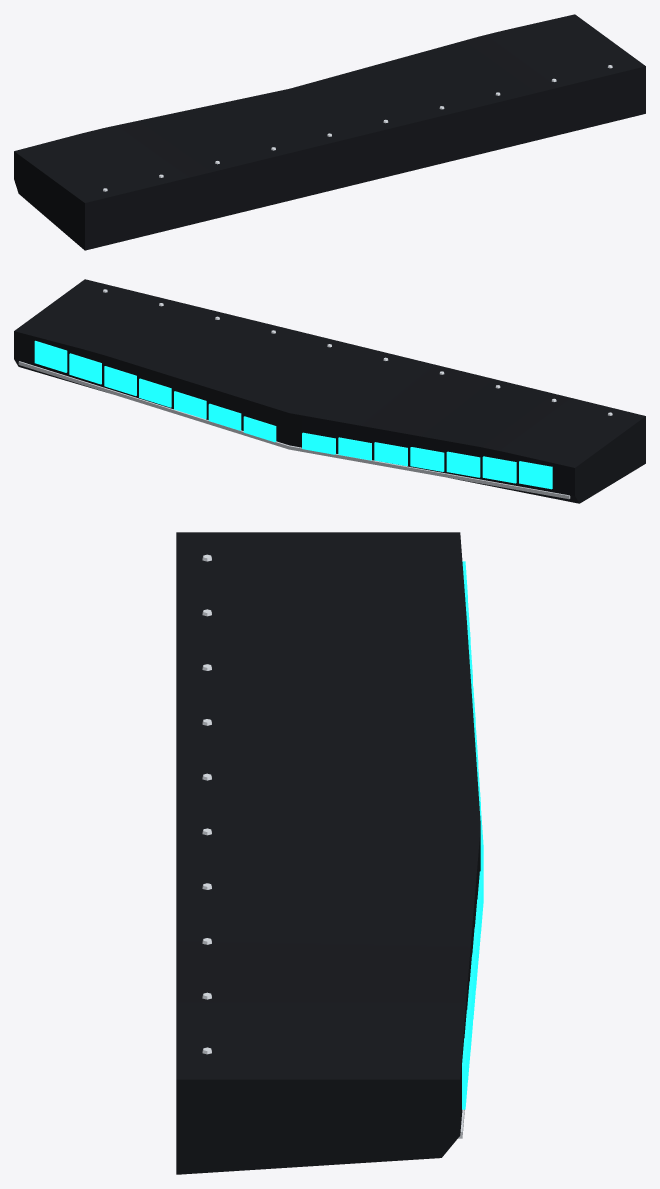
File: visor_v_split.glb
The picture shows the model from 3 angles, top to bottom: view 1: azimuth 30°, elevation 25°; view 2: azimuth 150°, elevation 25°; view 3: azimuth 270°, elevation 25°; orthographic projection. The views are drawn at different scales.
Parts seen in each view (by area): view 1: visor_v_split_deco_body; view 2: visor_v_split_deco_body, visor_v_split_deco_neon, visor_v_split_chrome; view 3: visor_v_split_deco_body, visor_v_split_deco_neon.
Boxes of the visible parts, <box> form: visor_v_split_deco_body: <box>14,14,645,250</box>; visor_v_split_deco_body: <box>14,279,645,503</box>; visor_v_split_deco_neon: <box>34,340,552,489</box>; visor_v_split_chrome: <box>18,289,612,499</box>; visor_v_split_deco_body: <box>176,532,480,1174</box>; visor_v_split_deco_neon: <box>462,561,483,1109</box>.
Bounding box in the file's own units: 2.1 × 0.1755 × 0.4977.
